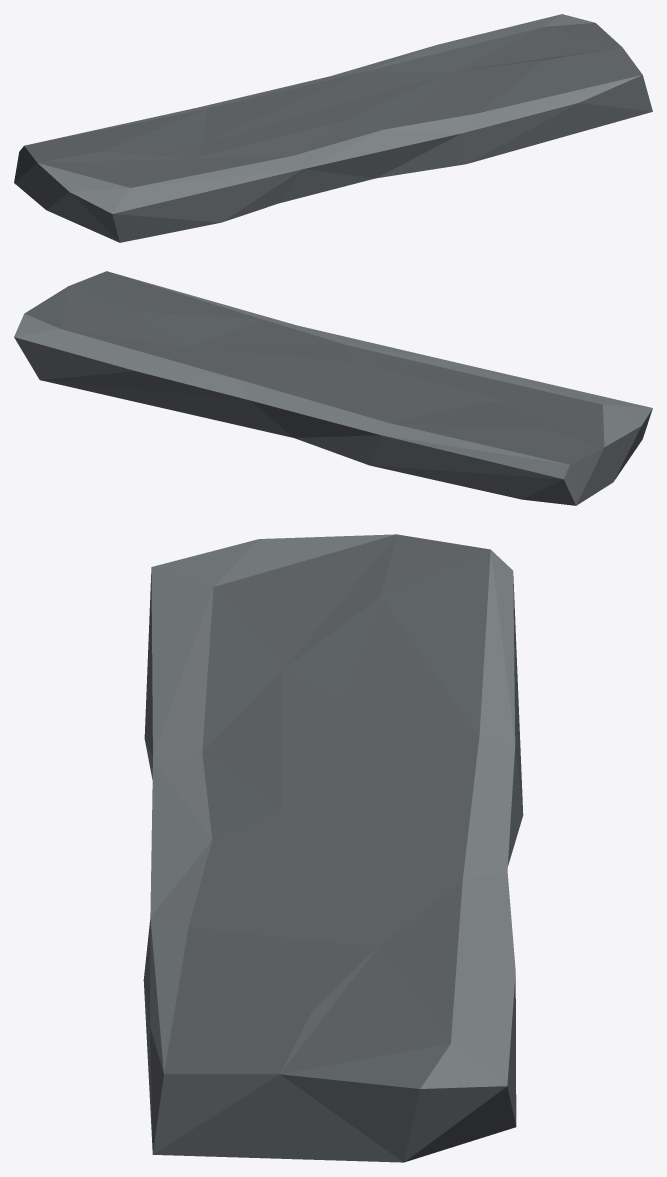
File: MCastle_Steps_11.FBX
The picture shows the model from 3 angles, top to bottom: view 1: azimuth 30°, elevation 25°; view 2: azimuth 150°, elevation 25°; view 3: azimuth 270°, elevation 25°; orthographic projection. The views are drawn at different scales.
Parts seen in each view (by area): view 1: MCastle_Steps_11_LOD0; view 2: MCastle_Steps_11_LOD0; view 3: MCastle_Steps_11_LOD0.
Boxes of the visible parts, bbox=[...] form: MCastle_Steps_11_LOD0: bbox=[14, 14, 652, 242]; MCastle_Steps_11_LOD0: bbox=[14, 271, 652, 505]; MCastle_Steps_11_LOD0: bbox=[143, 534, 523, 1162].
Size of what is drawn, in the model's own units: 3.49 by 0.2687 by 1.01.
